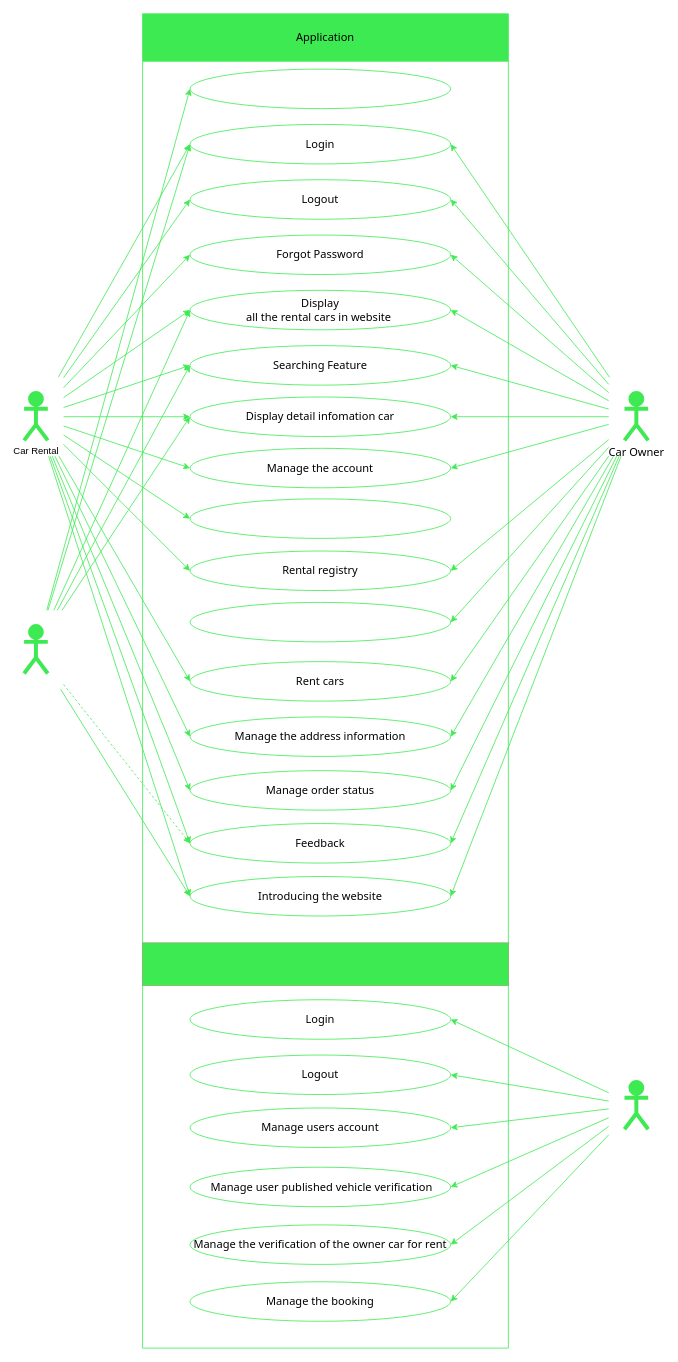
Some shapes in this 678 by 1362 pixel diagram are drawn without their labels. The centre of each missing label's shape, as x and y in pixels:
Admin: (x=636, y=1105)
Admin Application Interface: (x=325, y=964)
Authenticate Identification: (x=320, y=518)
Guest: (x=35, y=649)
Manage My Cars: (x=320, y=622)
Register: (x=320, y=88)
